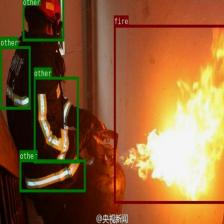fire: (114, 25, 224, 202)
